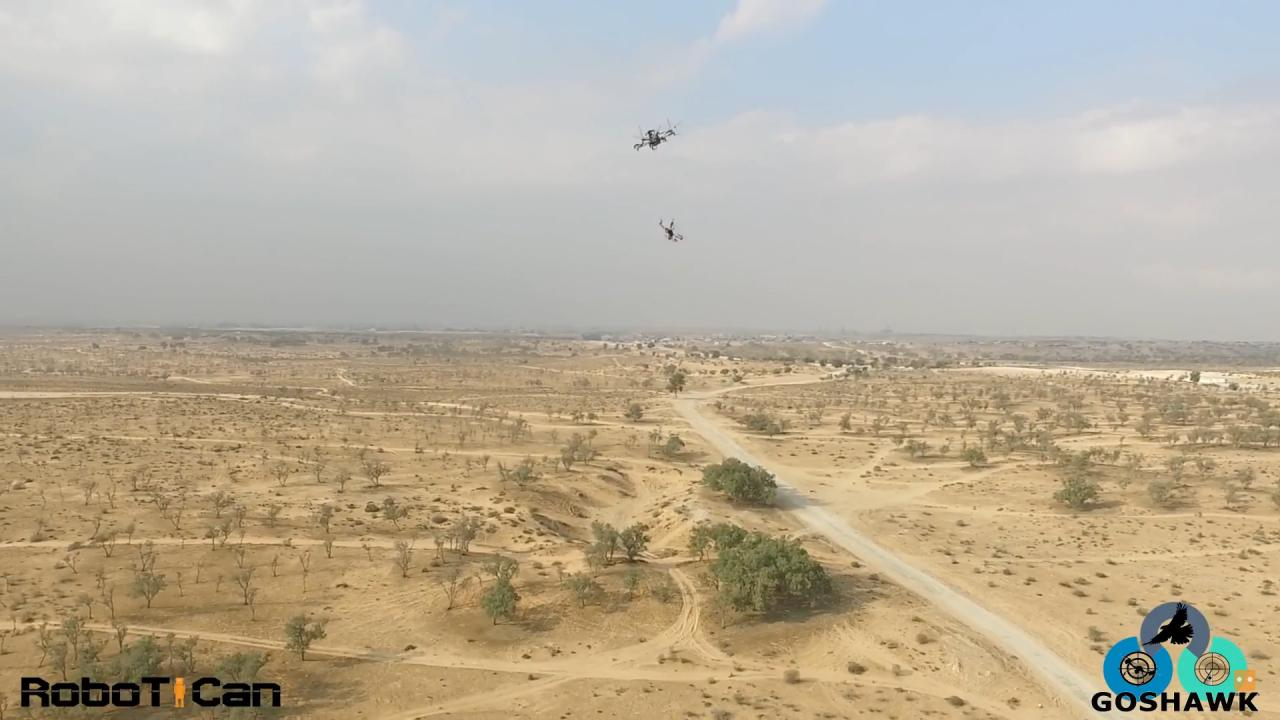Drone: (623, 105, 690, 164), (649, 207, 700, 250)
